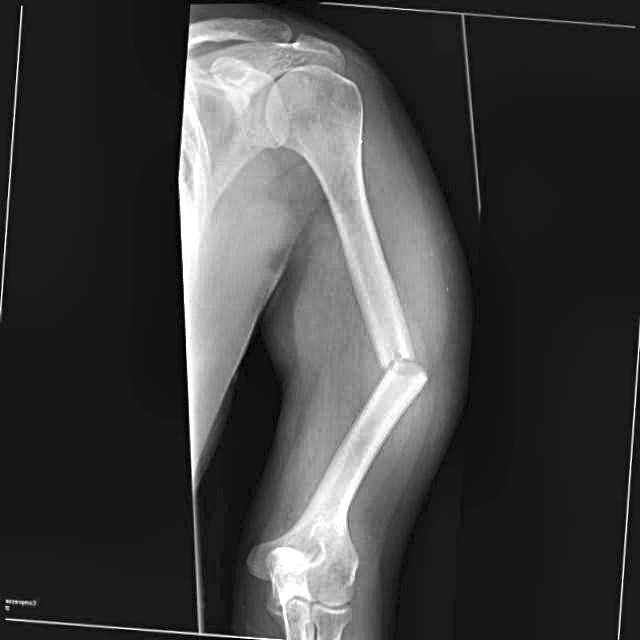Transverse: (364, 324, 443, 408)
